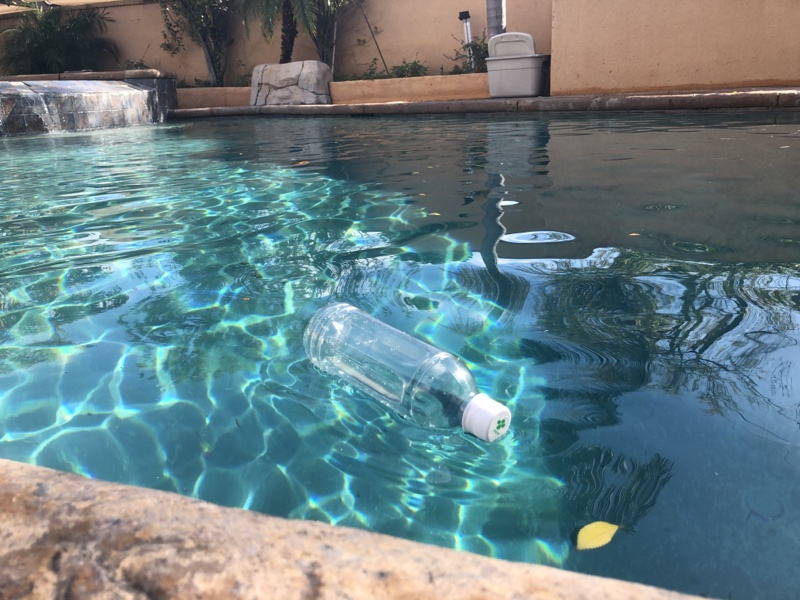Plastic Bottle: (302, 299, 513, 451)
